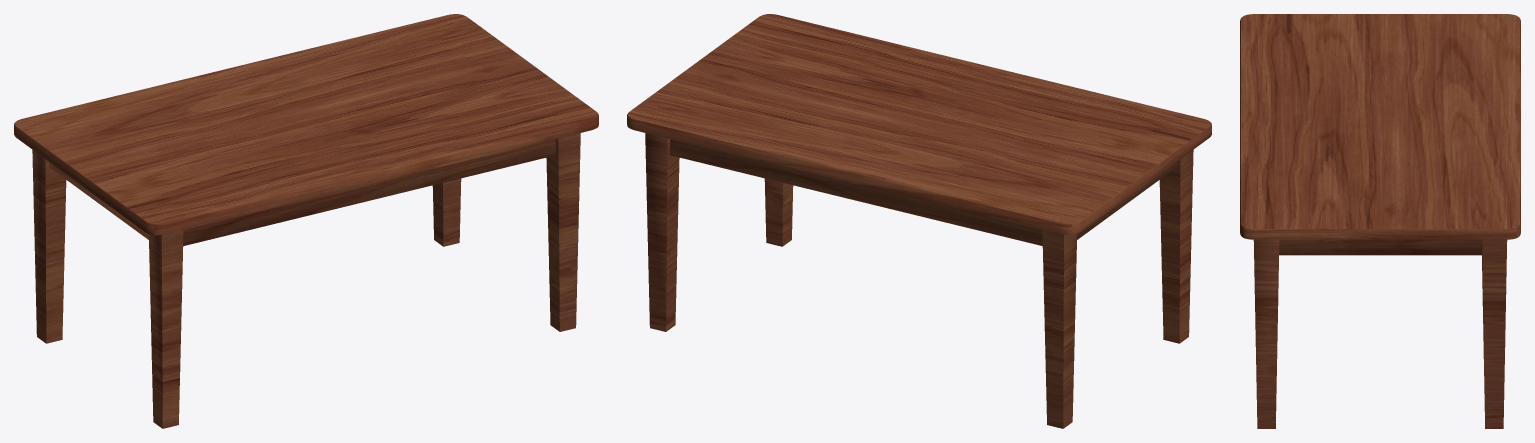
The model's file is uploads_files_821916_Table.obj.
3 views of the same model, side by side, from view 1: azimuth 30°, elevation 25°; view 2: azimuth 150°, elevation 25°; view 3: azimuth 270°, elevation 25° (orthographic). The views are drawn at different scales.
Visible parts, largest first — view 1: uploads_files_821916_Table:Table; view 2: uploads_files_821916_Table:Table; view 3: uploads_files_821916_Table:Table.
Part boxes in pixels (left/top/right/bottom): uploads_files_821916_Table:Table: left=14, top=14, right=598, bottom=428; uploads_files_821916_Table:Table: left=627, top=14, right=1211, bottom=428; uploads_files_821916_Table:Table: left=1240, top=14, right=1520, bottom=428.
Bounding box in the file's own units: 182 × 82.18 × 100.
1 material, 1 textured.
